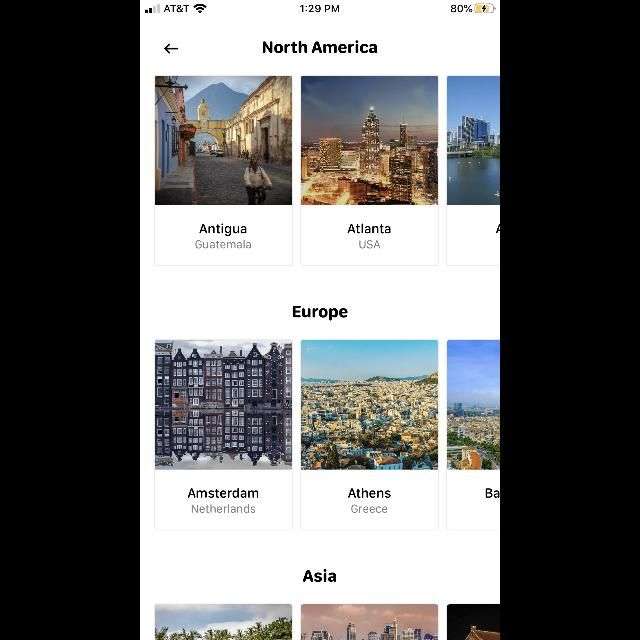icon: (164, 44, 178, 54)
image: (302, 340, 438, 470), (156, 340, 292, 470), (302, 76, 438, 206), (156, 76, 292, 206), (446, 340, 499, 470), (446, 76, 499, 206), (302, 604, 438, 640), (156, 604, 292, 640), (446, 604, 499, 640)
text: (263, 40, 377, 54), (292, 306, 348, 320), (188, 488, 258, 498), (200, 224, 247, 236), (192, 505, 256, 513), (196, 240, 250, 248), (349, 488, 391, 498), (348, 224, 390, 234), (304, 570, 336, 582), (351, 505, 387, 513), (360, 241, 380, 249), (486, 488, 500, 498)
uppertaskbar: (140, 0, 500, 14)
